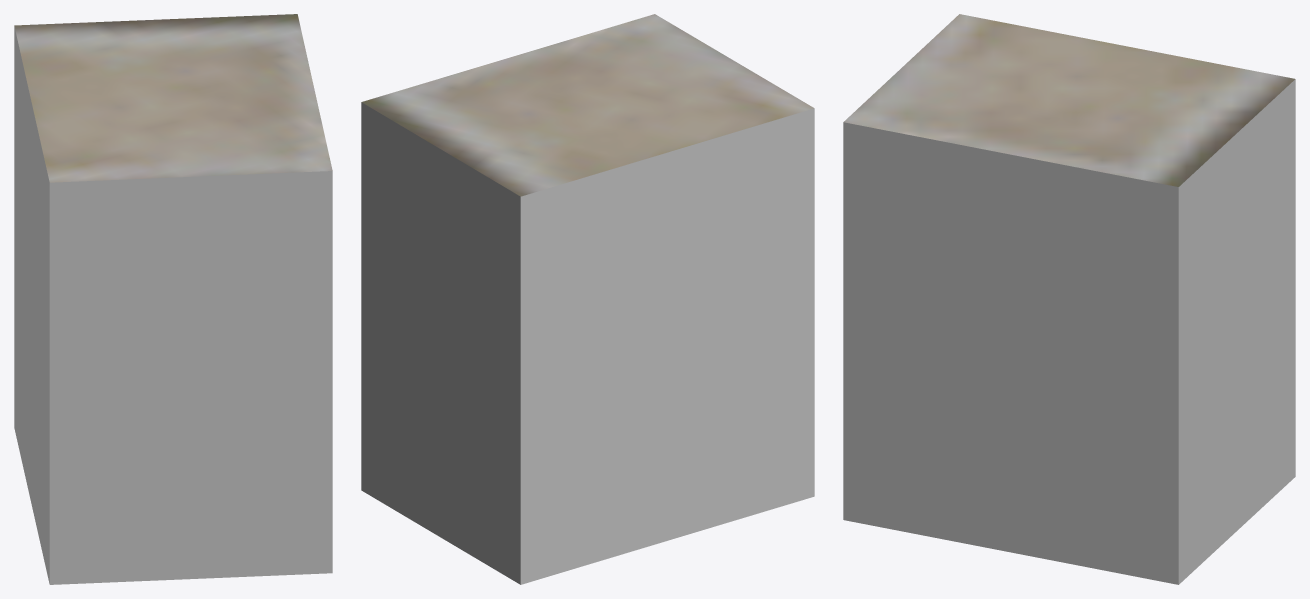
Rendered from DEBW_0010007THYy.gltf.
3 renders of one model, left to right at view 1: azimuth 30°, elevation 25°; view 2: azimuth 150°, elevation 25°; view 3: azimuth 270°, elevation 25°, orthographic. The views are drawn at different scales.
Visible parts, largest first — view 1: Z_UP; view 2: Z_UP; view 3: Z_UP.
Part boxes in pixels (<box>): Z_UP: <box>14,14,332,584</box>; Z_UP: <box>361,14,814,584</box>; Z_UP: <box>843,14,1295,584</box>.
Size of the model in its own units: 5.68 by 6.09 by 6.27.
2 materials, 1 textured.
